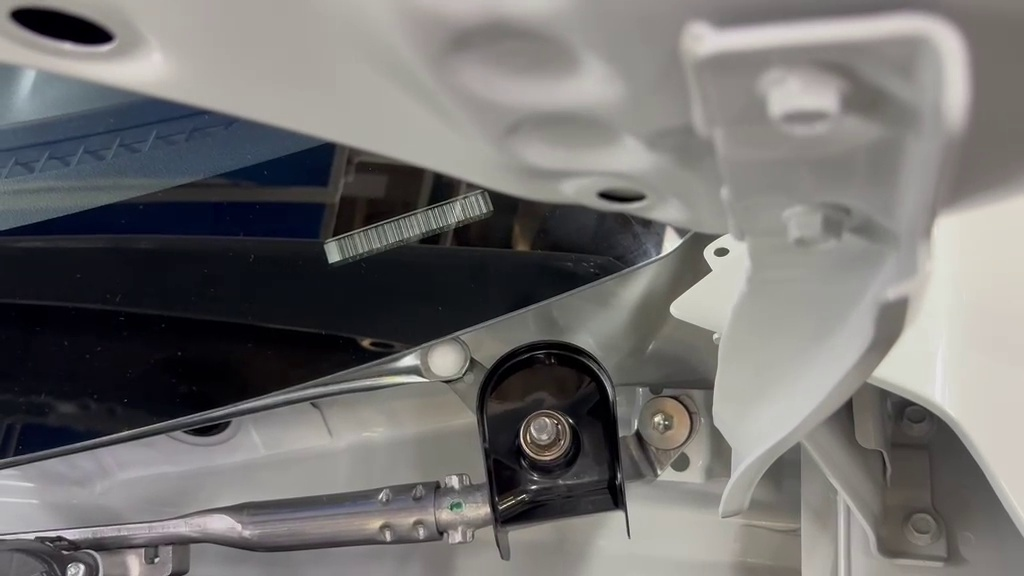barcode: (456, 333, 661, 565)
hinge: (307, 168, 513, 280)
